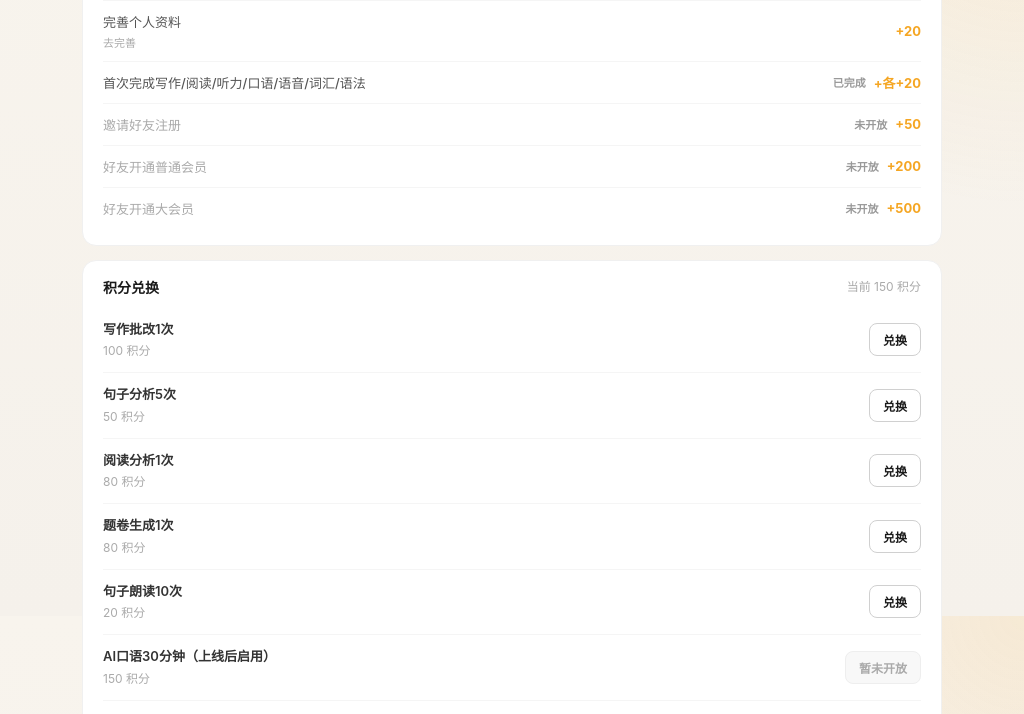
Test: PointsPage › confirms redemption and shows success in a centered toast
The image size is (1024, 714).
(page scrolled)
Expected: the text "写作批改1次" is shown, x1=103 y1=320 x2=174 y2=339
Click the button "兑换" in the row of "写作批改1次".
click(895, 340)  # box x1=869 y1=323 x2=921 y2=356
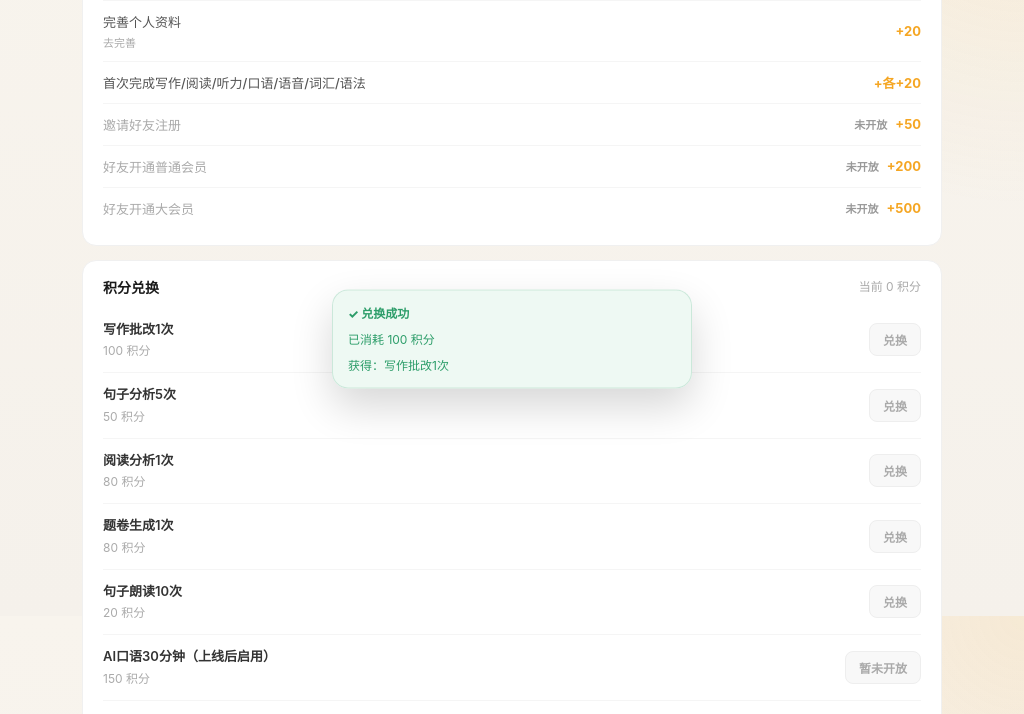
Expected: the message shows "✓ 兑换成功", x1=348 y1=306 x2=409 y2=320
Expected: the message shows "已消耗 100 积分", x1=332 y1=290 x2=692 y2=388
Expected: the message shows "获得：写作批改1次", x1=332 y1=290 x2=692 y2=388
